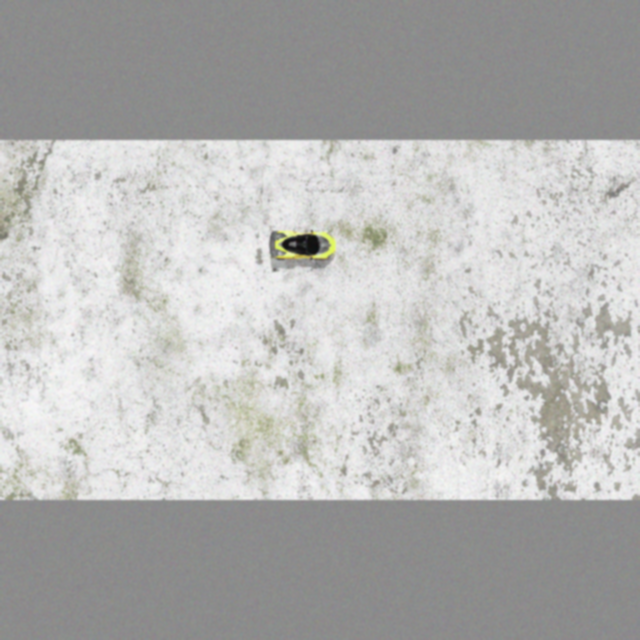car: (269, 227, 337, 260)
